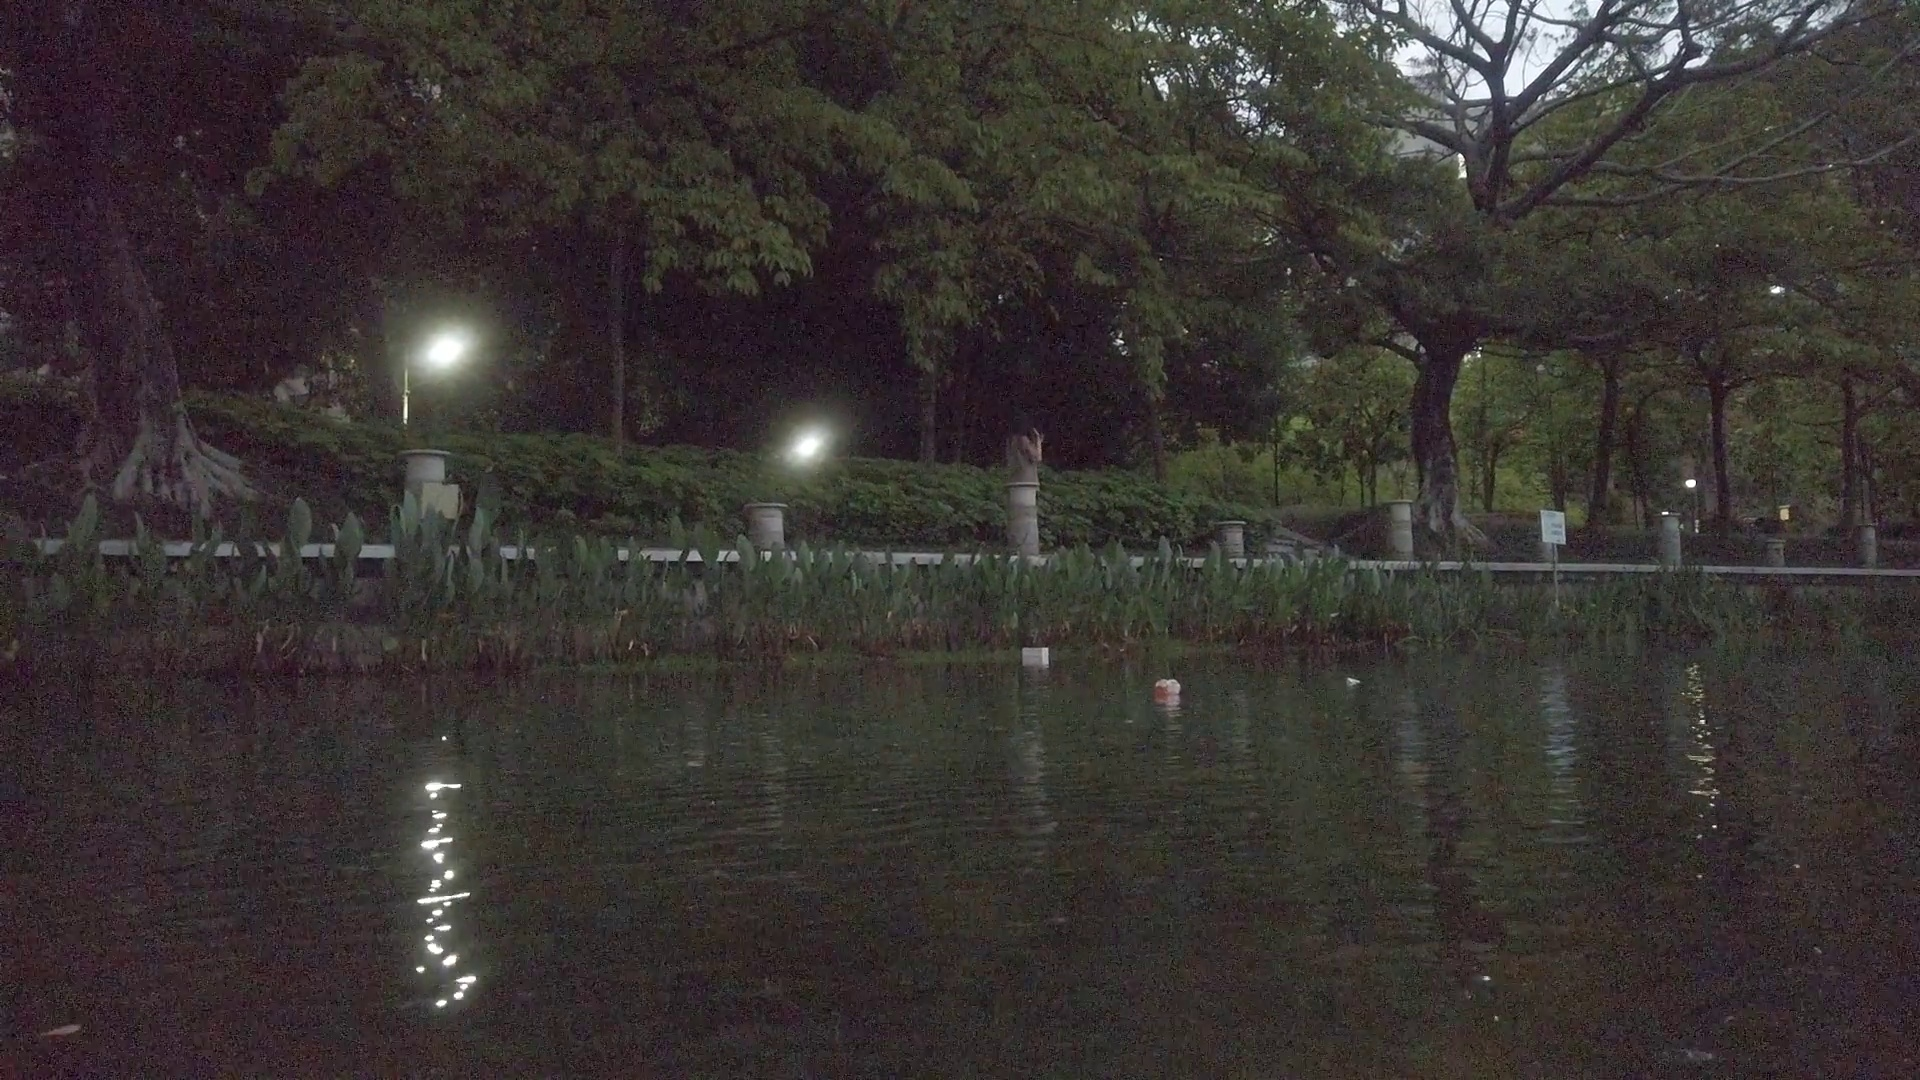bottle: (1156, 673, 1182, 695)
carton: (1021, 644, 1048, 663)
